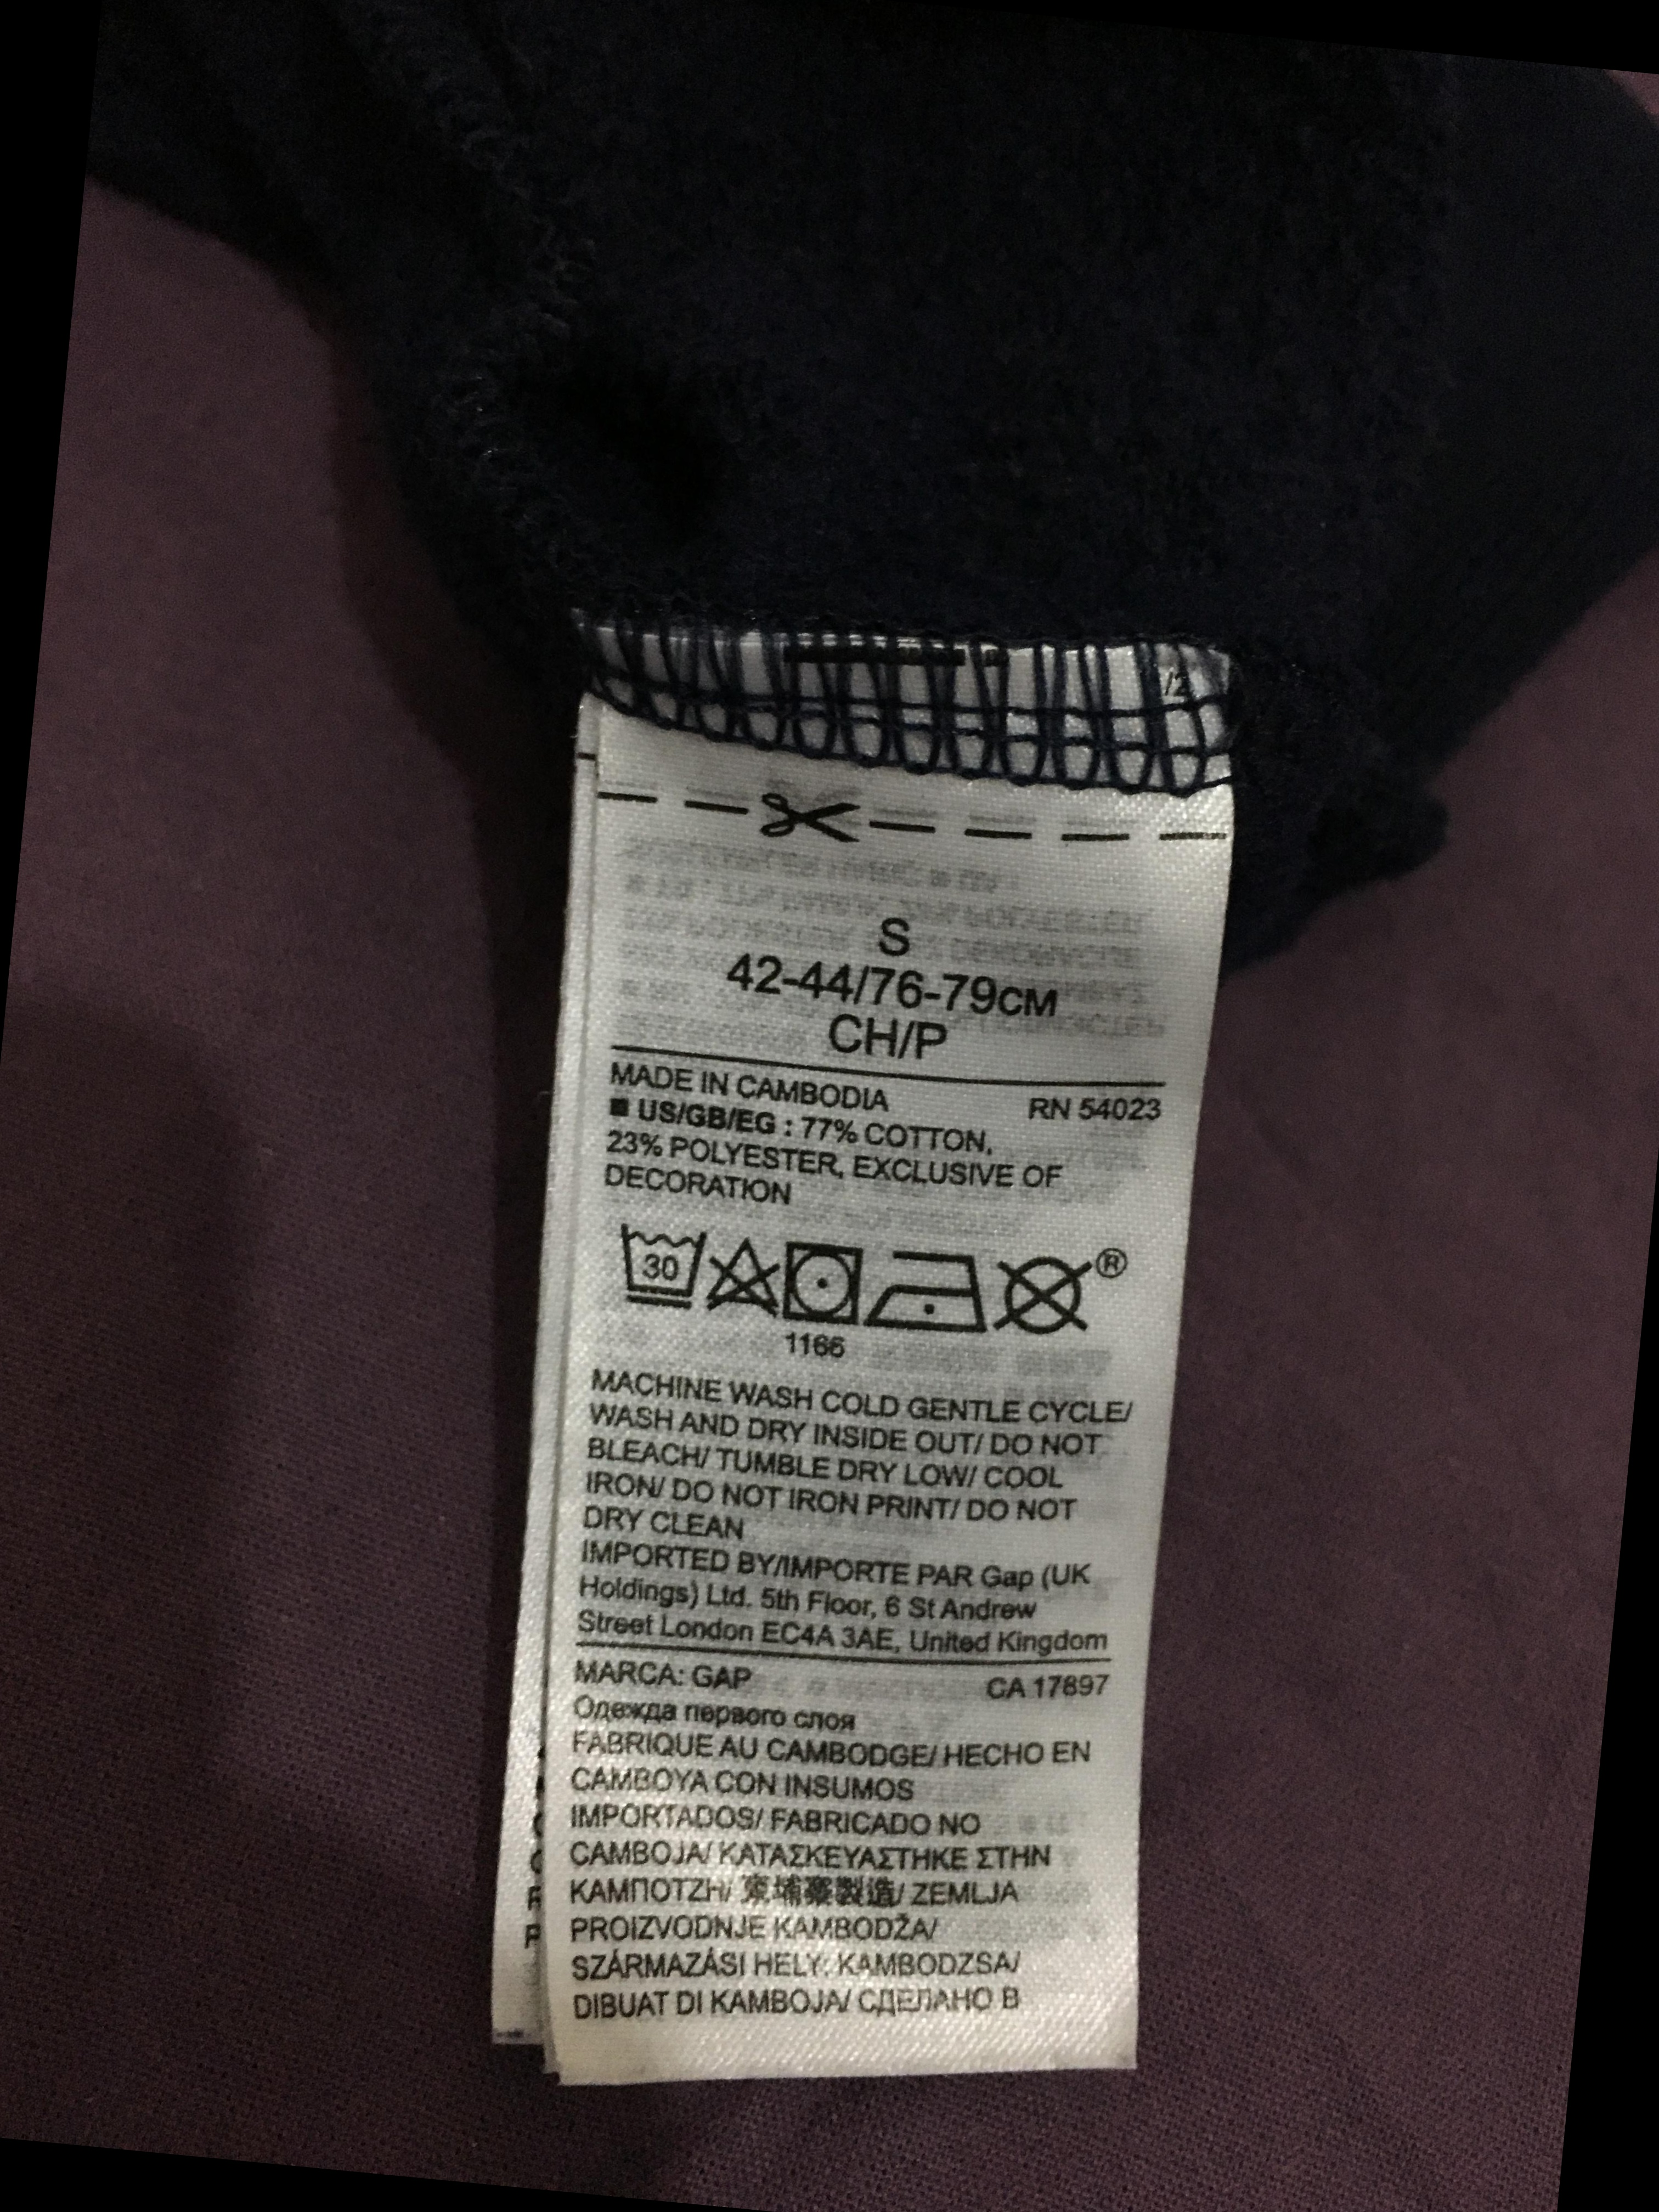30C: (610, 1212, 713, 1327)
DN_bleach: (708, 1223, 786, 1329)
DN_dry_clean: (997, 1238, 1107, 1345)
iron_low: (875, 1235, 992, 1346)
tumble_dry_low: (782, 1230, 877, 1332)
